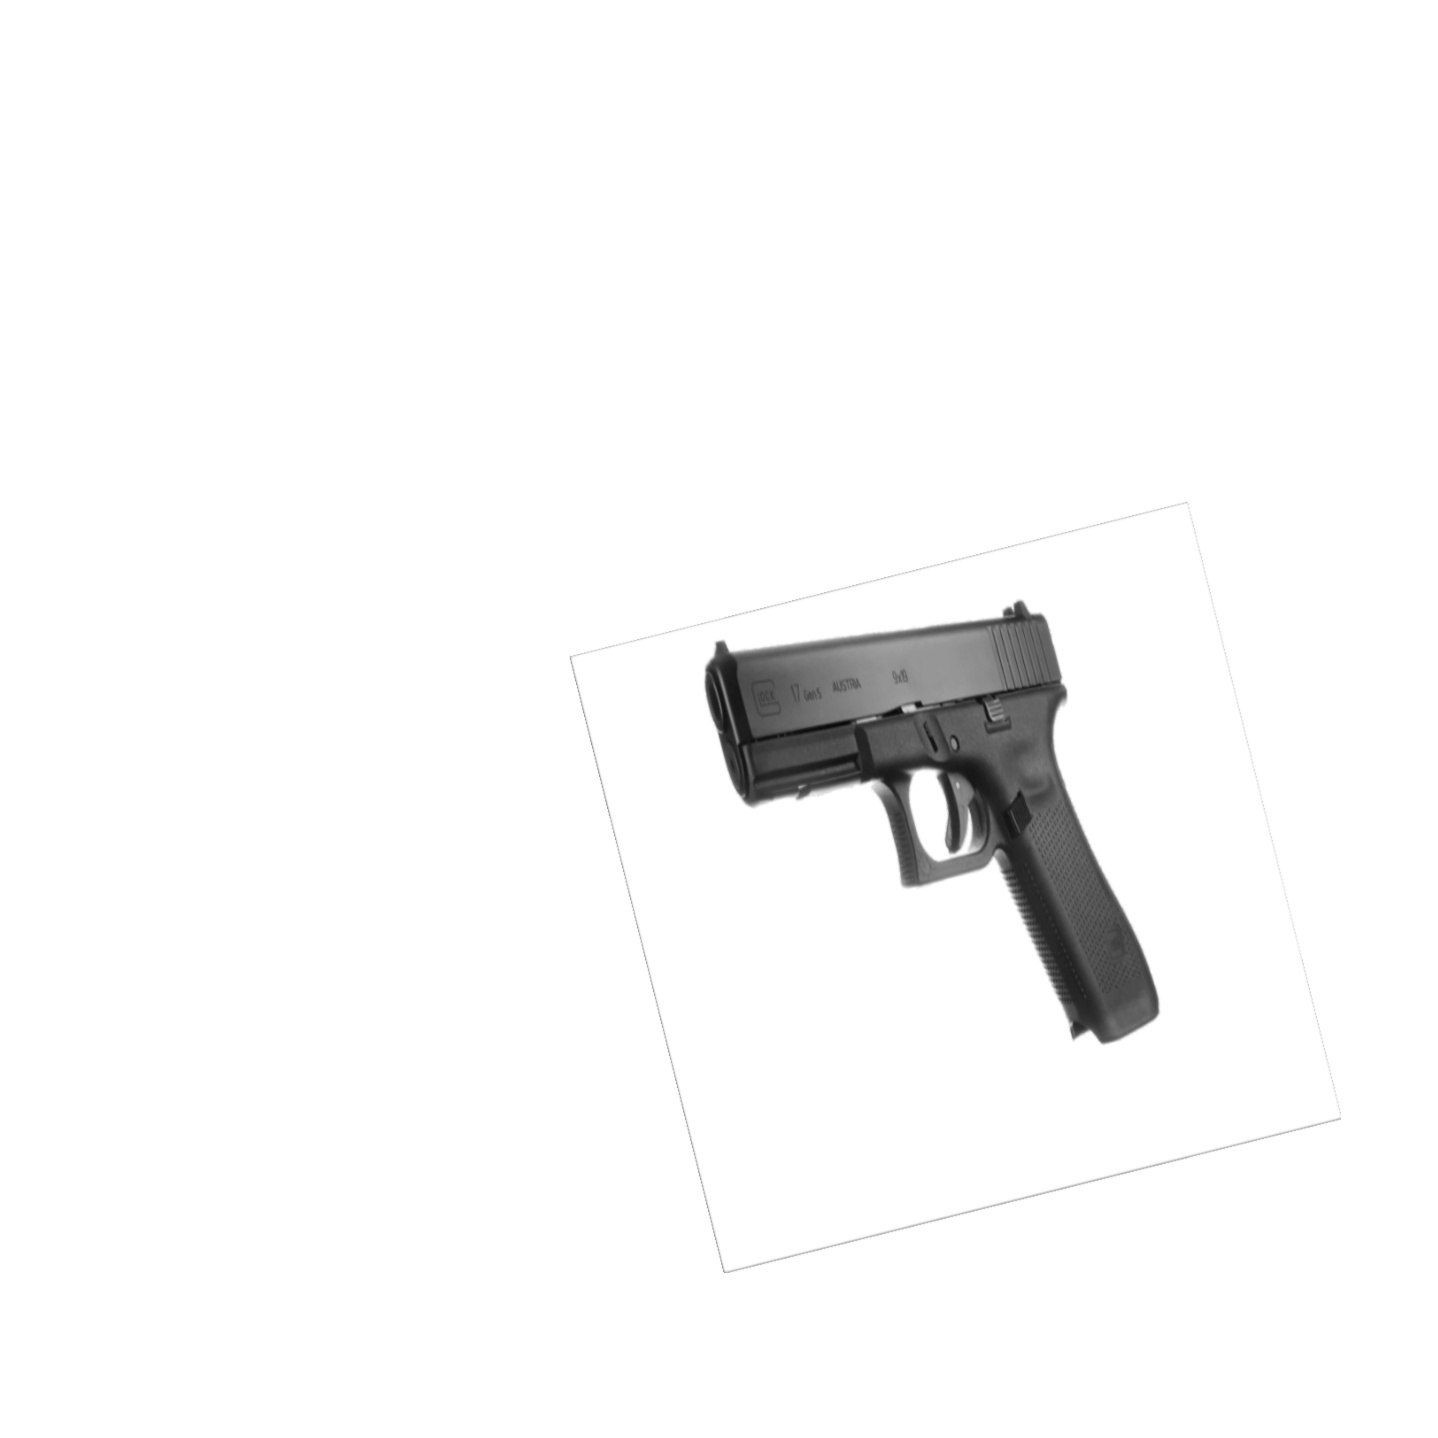gun: (701, 600, 1165, 1036)
